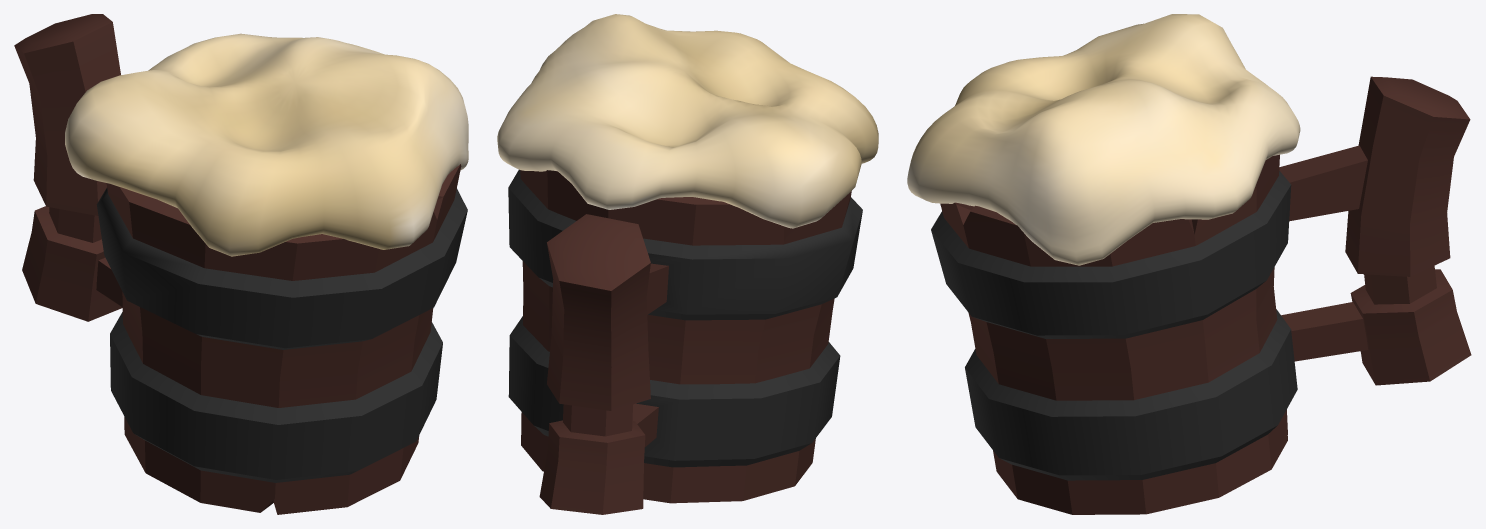
File: mug.glb
3 views of the same model, side by side, from view 1: azimuth 30°, elevation 25°; view 2: azimuth 150°, elevation 25°; view 3: azimuth 270°, elevation 25° (orthographic).
Visible parts, largest first — view 1: beer, mousse; view 2: beer, mousse; view 3: beer, mousse.
Part boxes in pixels (left/top/right/bottom): beer: left=14, top=14, right=467, bottom=514; mousse: left=65, top=33, right=468, bottom=256; beer: left=508, top=169, right=862, bottom=514; mousse: left=497, top=14, right=878, bottom=228; beer: left=931, top=76, right=1471, bottom=514; mousse: left=907, top=14, right=1300, bottom=265.
Bounding box in the file's own units: 6.93 × 7.68 × 9.7.
